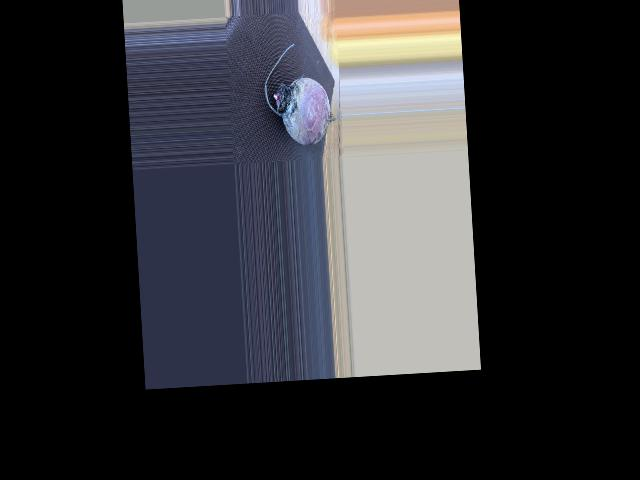beet: (261, 41, 343, 148)
